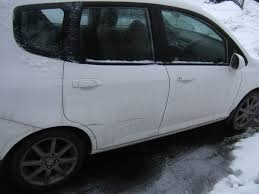Scratch: (67, 2, 78, 61)
